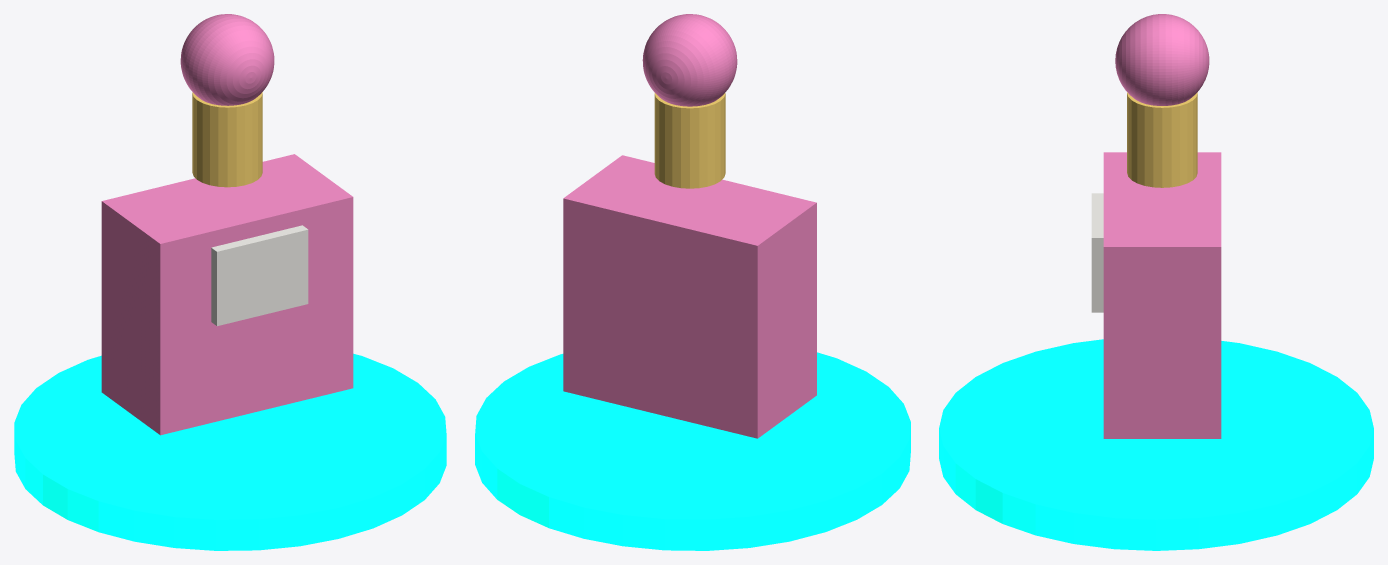
The model's file is fashion_perfume.glb.
3 views of the same model, side by side, from view 1: azimuth 30°, elevation 25°; view 2: azimuth 150°, elevation 25°; view 3: azimuth 270°, elevation 25° (orthographic).
Parts seen in each view (by area): view 1: 06_16_Popular_Fashion_Perfume_ROOT_base, 06_16_Popular_Fashion_Perfume_part_01, 06_16_Popular_Fashion_Perfume_part_04, 06_16_Popular_Fashion_Perfume_part_03, 06_16_Popular_Fashion_Perfume_part_02; view 2: 06_16_Popular_Fashion_Perfume_part_01, 06_16_Popular_Fashion_Perfume_ROOT_base, 06_16_Popular_Fashion_Perfume_part_03, 06_16_Popular_Fashion_Perfume_part_02; view 3: 06_16_Popular_Fashion_Perfume_ROOT_base, 06_16_Popular_Fashion_Perfume_part_01, 06_16_Popular_Fashion_Perfume_part_03, 06_16_Popular_Fashion_Perfume_part_02, 06_16_Popular_Fashion_Perfume_part_04.
Part boxes in pixels (bbox=[...]): 06_16_Popular_Fashion_Perfume_ROOT_base: bbox=[14, 353, 446, 550]; 06_16_Popular_Fashion_Perfume_part_01: bbox=[101, 154, 353, 435]; 06_16_Popular_Fashion_Perfume_part_04: bbox=[211, 225, 308, 326]; 06_16_Popular_Fashion_Perfume_part_03: bbox=[180, 14, 274, 105]; 06_16_Popular_Fashion_Perfume_part_02: bbox=[192, 92, 262, 187]; 06_16_Popular_Fashion_Perfume_part_01: bbox=[563, 155, 816, 438]; 06_16_Popular_Fashion_Perfume_ROOT_base: bbox=[475, 352, 910, 550]; 06_16_Popular_Fashion_Perfume_part_03: bbox=[642, 14, 737, 106]; 06_16_Popular_Fashion_Perfume_part_02: bbox=[654, 93, 725, 188]; 06_16_Popular_Fashion_Perfume_ROOT_base: bbox=[939, 339, 1373, 550]; 06_16_Popular_Fashion_Perfume_part_01: bbox=[1103, 152, 1221, 438]; 06_16_Popular_Fashion_Perfume_part_03: bbox=[1115, 14, 1209, 105]; 06_16_Popular_Fashion_Perfume_part_02: bbox=[1127, 92, 1197, 187]; 06_16_Popular_Fashion_Perfume_part_04: bbox=[1091, 193, 1103, 312].
Bounding box in the file's own units: 0.76 × 0.85 × 0.76.
